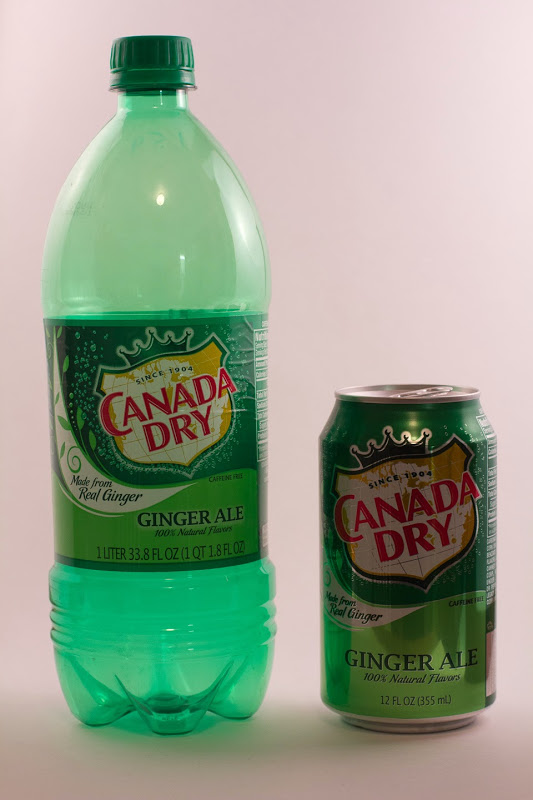Lata: (293, 374, 503, 741)
